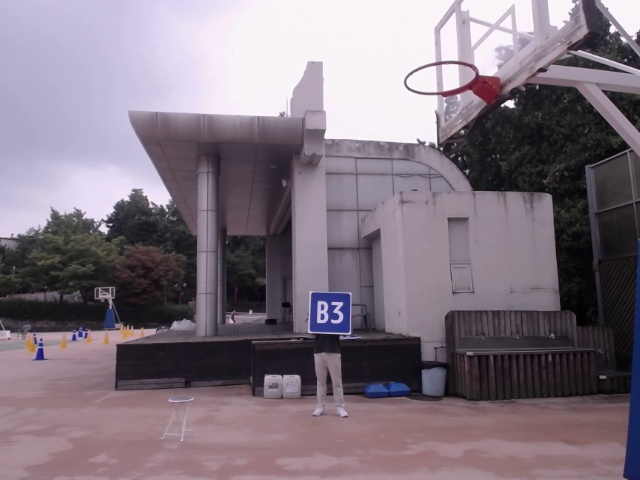delivery_b3: (309, 290, 350, 334)
